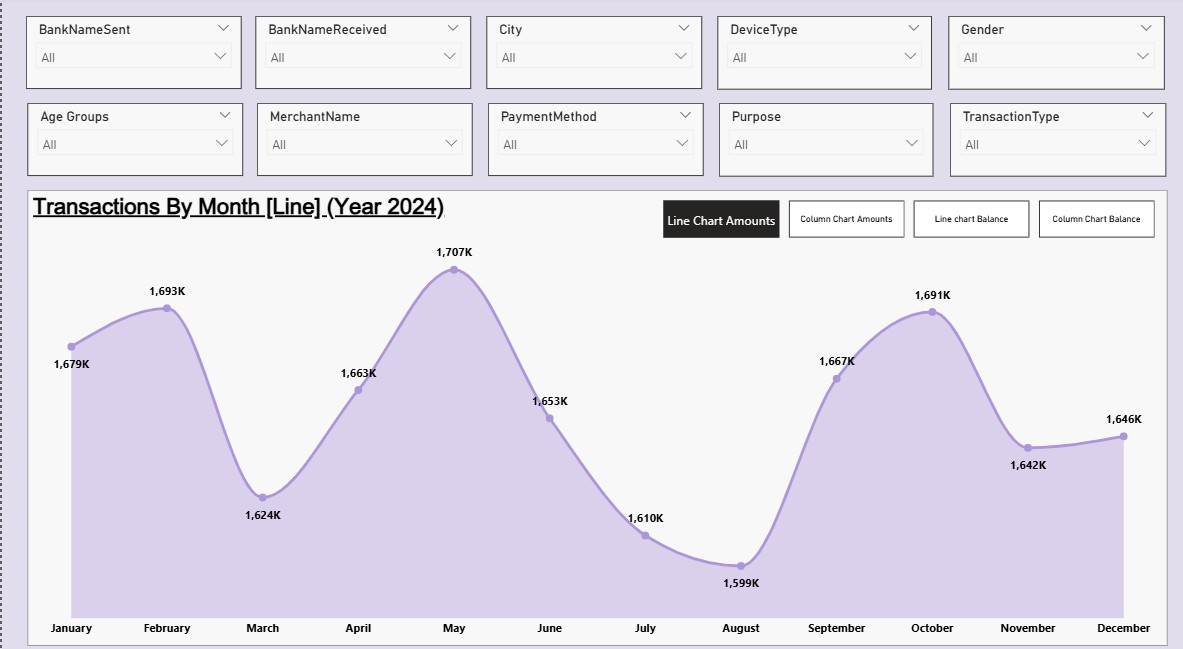

Layout of this report page (visuals, bound fields, positions):
{"tool":"powerbi","page":{"name":"Page 1","canvas":[1280,720],"ordinal":0},"visuals":[{"type":"slicer","fields":{"Values":["UPI Transactions Data.BankNameSent"]},"box":[26,22.3,232.9,79],"z":0},{"type":"slicer","fields":{"Values":["UPI Transactions Data.BankNameReceived"]},"box":[273.4,22.3,232.9,79],"z":1000},{"type":"slicer","fields":{"Values":["UPI Transactions Data.City"]},"box":[522.5,22.3,232.9,79],"z":2000},{"type":"slicer","fields":{"Values":["UPI Transactions Data.DeviceType"]},"box":[772.4,22.7,231.5,79.3],"z":3000},{"type":"slicer","fields":{"Values":["UPI Transactions Data.Gender"]},"box":[1021.7,22.7,233.2,79.3],"z":4000},{"type":"slicer","fields":{"Values":["UPI Transactions Data.Age Groups"]},"box":[27.4,116.5,232.9,79],"z":5000},{"type":"slicer","fields":{"Values":["UPI Transactions Data.MerchantName"]},"box":[274.8,116.5,232.9,79],"z":6000},{"type":"slicer","fields":{"Values":["UPI Transactions Data.PaymentMethod"]},"box":[523.9,116.5,232.9,79],"z":7000},{"type":"slicer","fields":{"Values":["UPI Transactions Data.Purpose"]},"box":[773.7,116.9,231.5,79.3],"z":8000},{"type":"slicer","fields":{"Values":["UPI Transactions Data.TransactionType"]},"box":[1023.1,116.9,233.2,79.3],"z":9000},{"type":"lineChart","title":"Transactions By Month [Line] (Year 2024)","fields":{"Y":["Sum(UPI Transactions Data.Amount)"],"Category":["UPI Transactions Data.TransactionDate.Variation.Date Hierarchy.Month"]},"box":[27.5,210.5,1230.6,492.2],"z":10000},{"type":"bookmarkNavigator","box":[713.3,221.7,530,40],"z":14000}]}

Visuals, with their boxes in screenshot pixels (x1, y1, x2, y2), scaled from the page's 1280x720 canvas onto the 1183x649 screenshot:
slicer - UPI Transactions Data.BankNameSent: (24, 20, 239, 91)
slicer - UPI Transactions Data.BankNameReceived: (253, 20, 468, 91)
slicer - UPI Transactions Data.City: (483, 20, 698, 91)
slicer - UPI Transactions Data.DeviceType: (714, 20, 928, 92)
slicer - UPI Transactions Data.Gender: (944, 20, 1160, 92)
slicer - UPI Transactions Data.Age Groups: (25, 105, 241, 176)
slicer - UPI Transactions Data.MerchantName: (254, 105, 469, 176)
slicer - UPI Transactions Data.PaymentMethod: (484, 105, 699, 176)
slicer - UPI Transactions Data.Purpose: (715, 105, 929, 177)
slicer - UPI Transactions Data.TransactionType: (946, 105, 1161, 177)
"Transactions By Month [Line] (Year 2024)" lineChart: (25, 190, 1163, 633)
bookmarkNavigator: (659, 200, 1149, 236)
